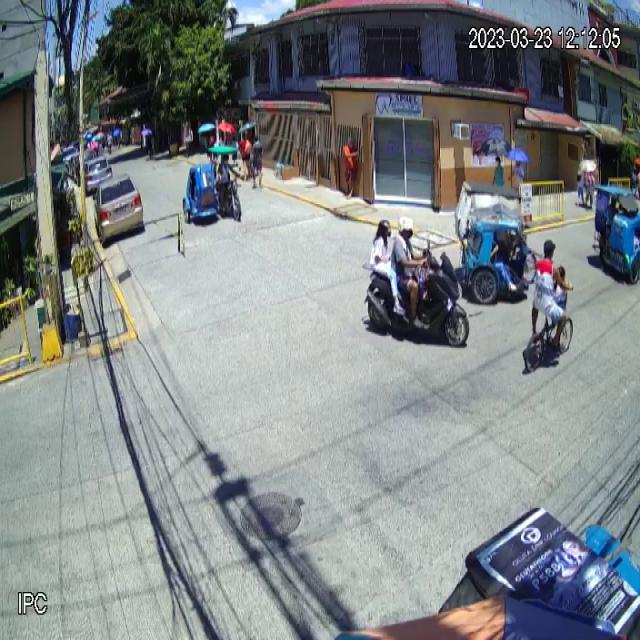Tricycle: (454, 177, 538, 309), (182, 144, 242, 223)
